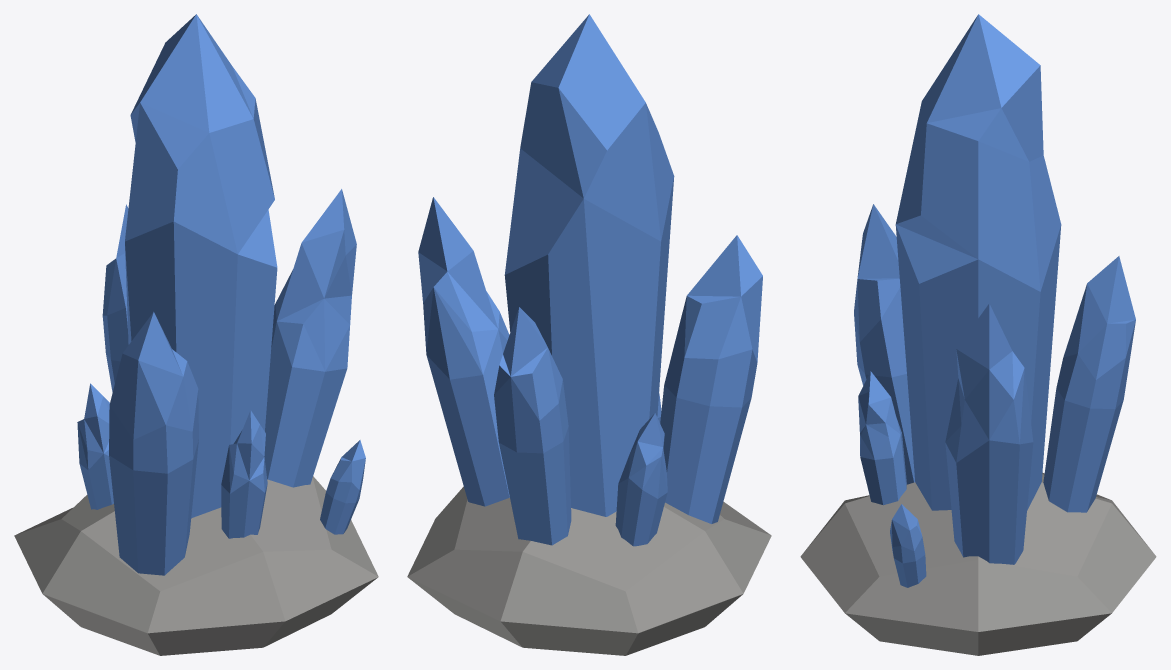
File: Crystal_5.fbx
3 renders of one model, left to right at view 1: azimuth 30°, elevation 25°; view 2: azimuth 150°, elevation 25°; view 3: azimuth 270°, elevation 25°, orthographic.
Parts seen in each view (by area): view 1: Crystal_5; view 2: Crystal_5; view 3: Crystal_5.
Boxes of the visible parts, x1=… form: Crystal_5: x1=14, y1=14, x2=378, y2=655; Crystal_5: x1=407, y1=14, x2=771, y2=655; Crystal_5: x1=800, y1=14, x2=1156, y2=655.
Bounding box in the file's own units: 154 × 148 × 269.
